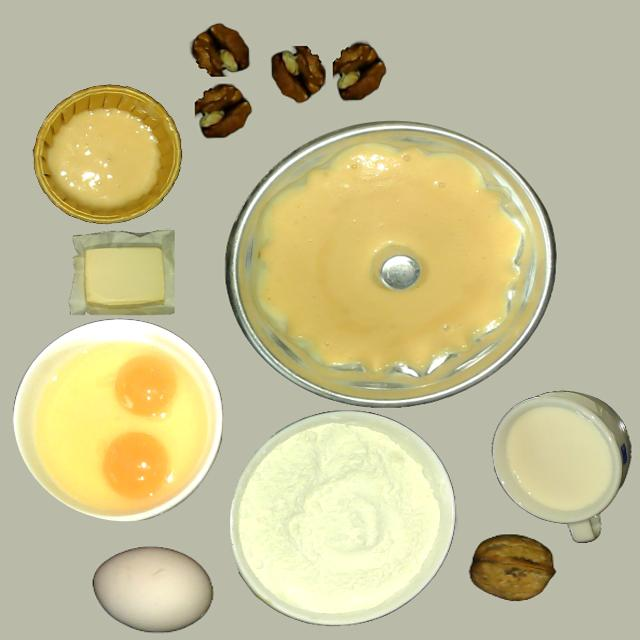Egg: (102, 433, 170, 498), (114, 355, 178, 418)
Flour: (238, 422, 440, 615)
Sugar: (503, 405, 613, 513)
Walnut: (470, 535, 554, 601)
